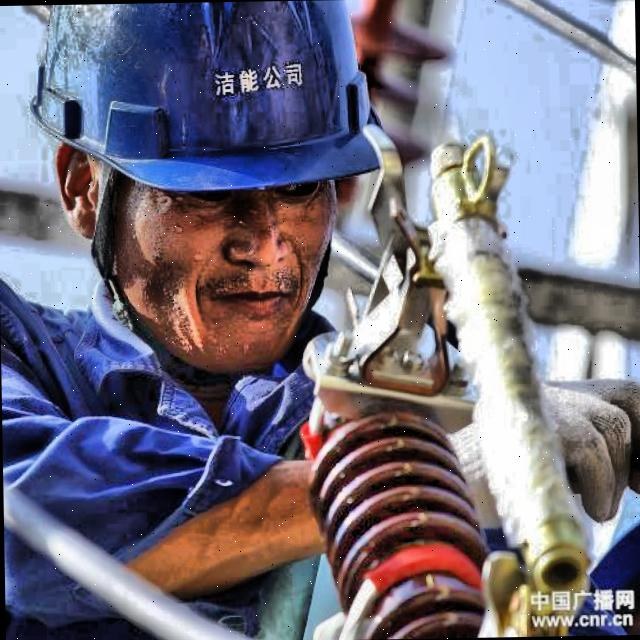helmet: (31, 8, 413, 380)
